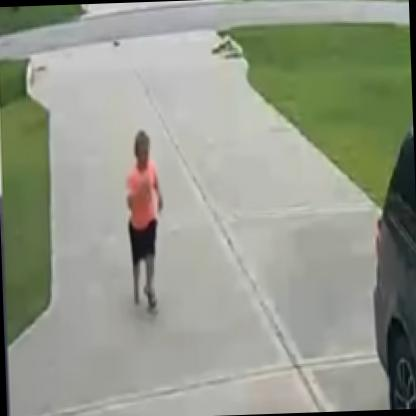Human Body: (119, 129, 168, 317)
